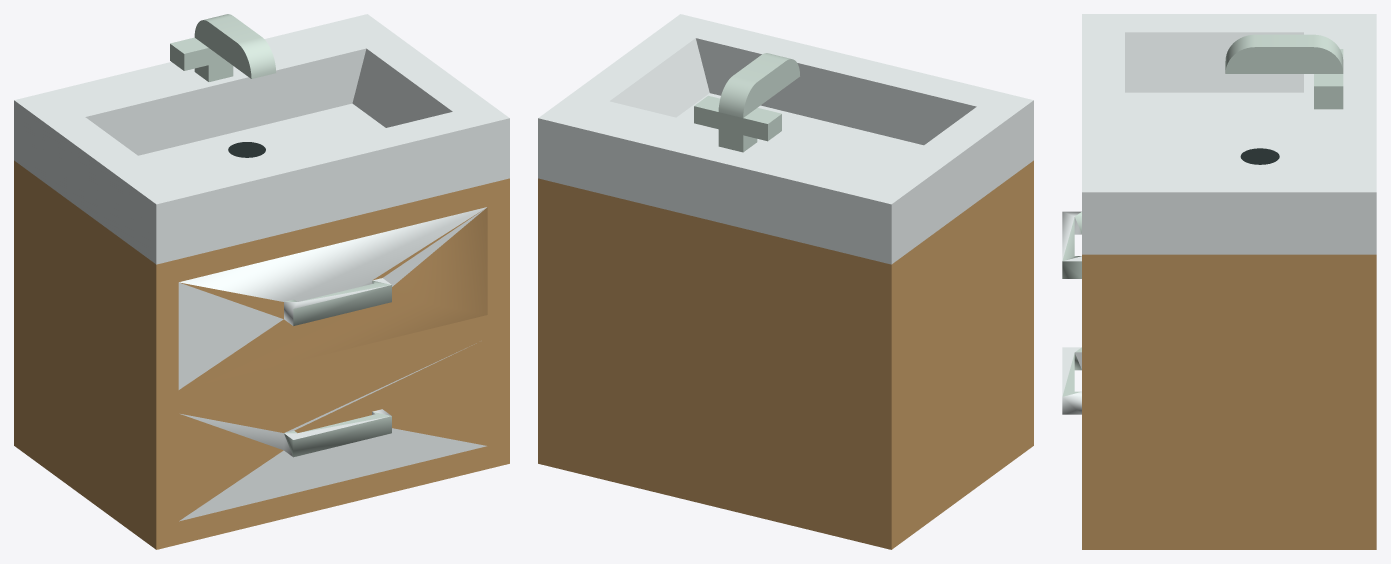
The model's file is kitchen-cabinet-drawer.glb.
3 views of the same model, side by side, from view 1: azimuth 30°, elevation 25°; view 2: azimuth 150°, elevation 25°; view 3: azimuth 270°, elevation 25° (orthographic). The views are drawn at different scales.
Parts seen in each view (by area): view 1: kitchenCabinetDrawer; view 2: kitchenCabinetDrawer; view 3: kitchenCabinetDrawer.
Boxes of the visible parts, x1,y1,x2,y2 form: kitchenCabinetDrawer: (14,14,509,549); kitchenCabinetDrawer: (538,14,1033,549); kitchenCabinetDrawer: (1062,14,1376,549).
Bounding box in the file's own units: 0.86 × 0.9435 × 0.64.
